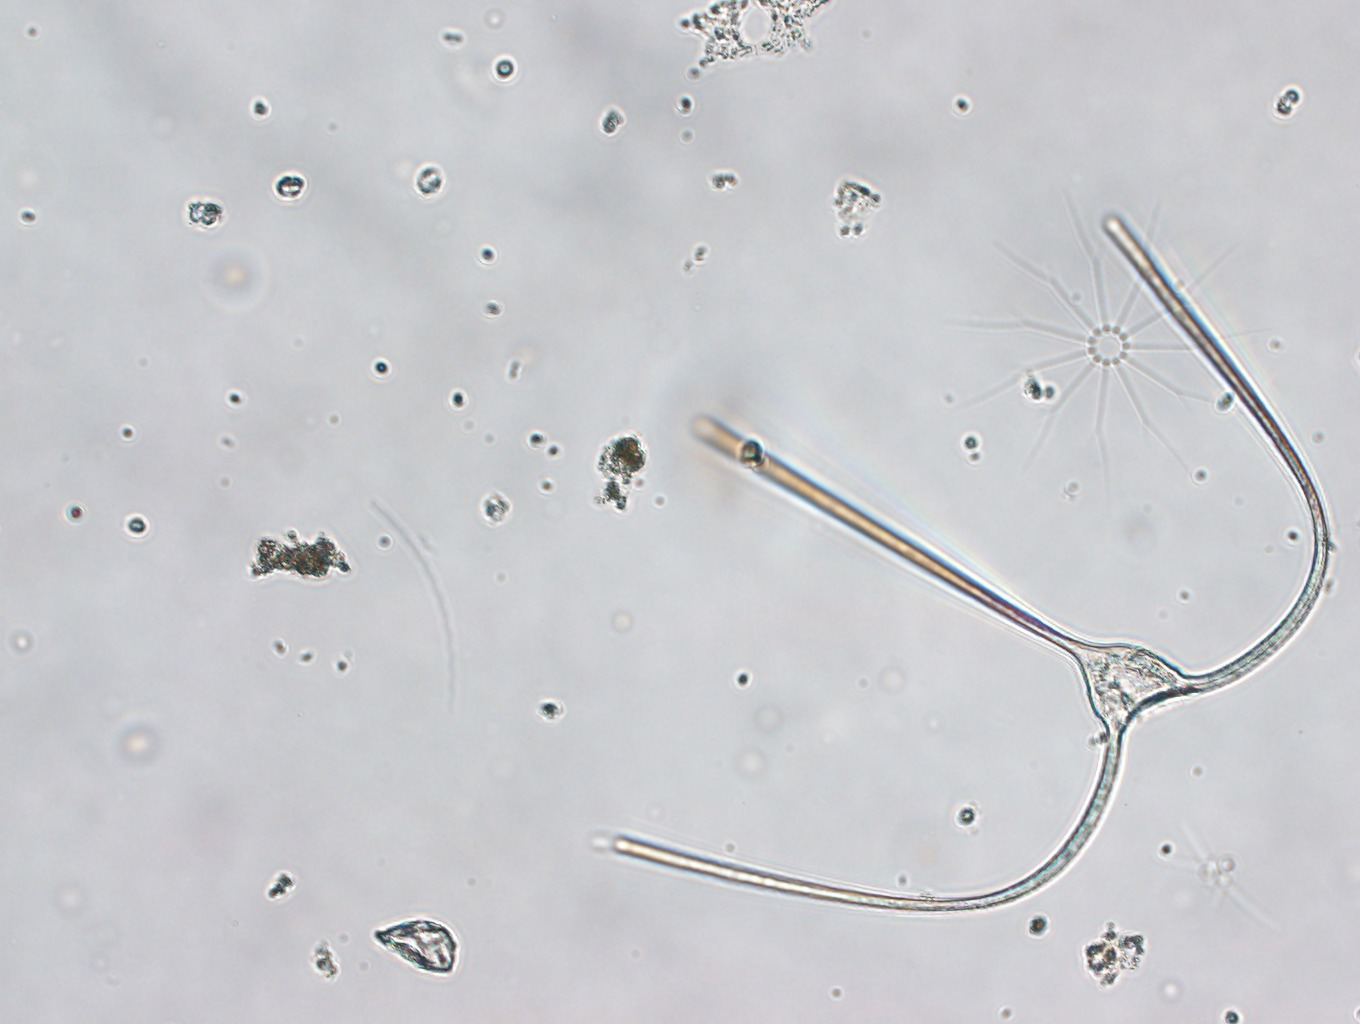bacteriastrum: (935, 180, 1269, 510)
ceratium trichoceros: (581, 197, 1336, 920)
